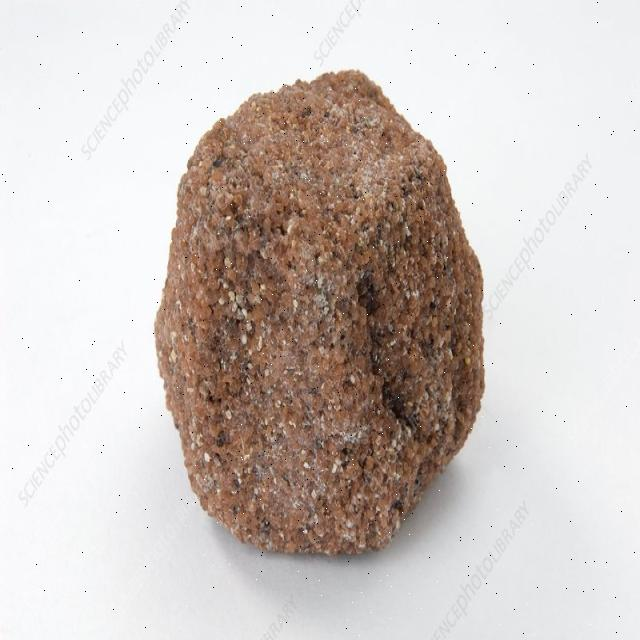Sedimentary: (149, 51, 502, 559)
